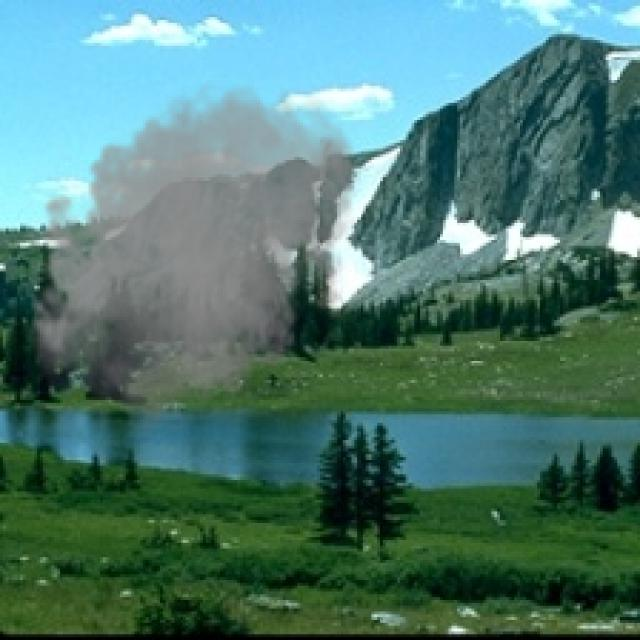smoke: (20, 74, 363, 443)
